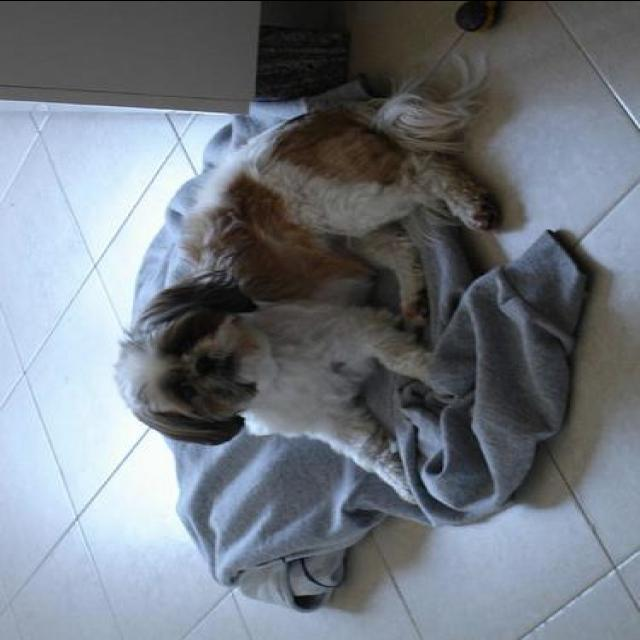shih_tzu: (114, 53, 500, 503)
